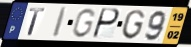9: (144, 9, 167, 42)
G: (70, 8, 97, 40), (120, 9, 146, 41)
I: (51, 7, 69, 39)
P: (90, 8, 121, 40)
T: (26, 7, 47, 37)
